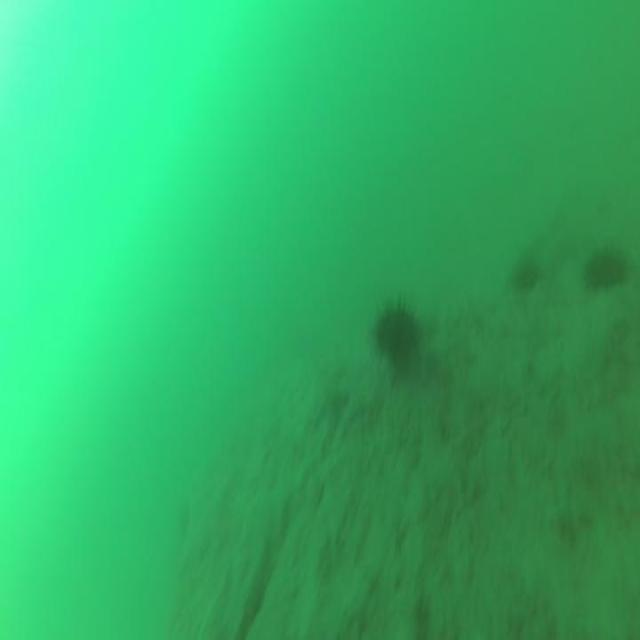echinus: (376, 305, 416, 368), (587, 248, 625, 291), (512, 262, 534, 291)
